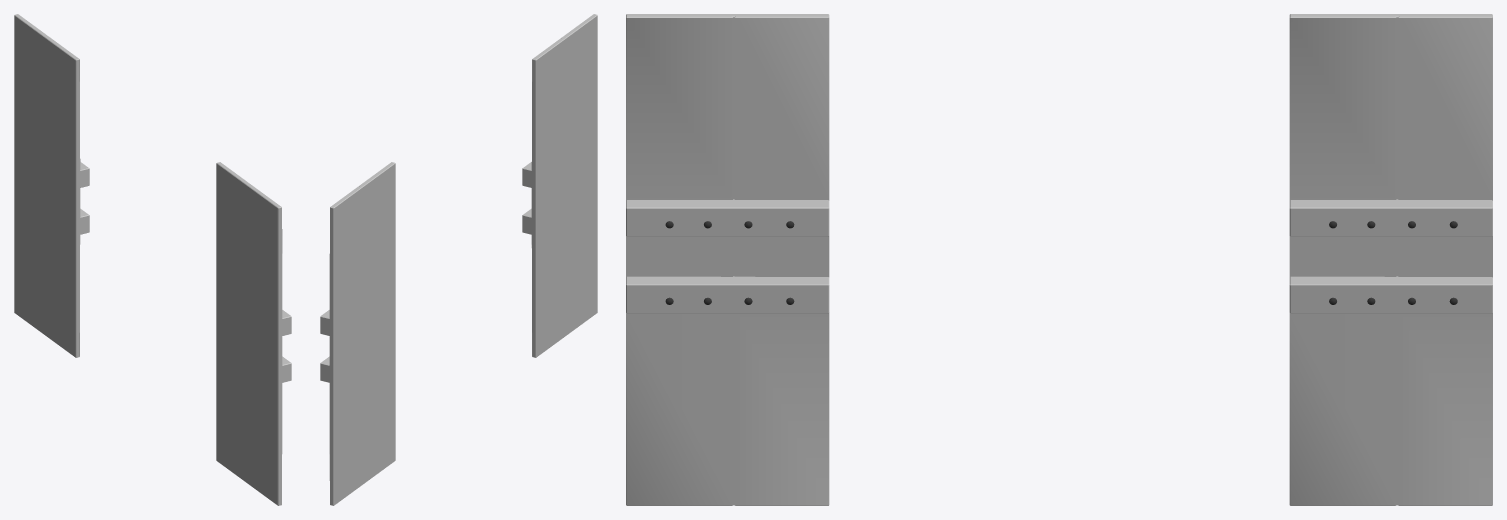
The model's file is SM_SJJ_HG_Wall05C.fbx.
3 views of the same model, side by side, from view 1: azimuth 30°, elevation 25°; view 2: azimuth 150°, elevation 25°; view 3: azimuth 270°, elevation 25° (orthographic). The views are drawn at different scales.
Visible parts, largest first — view 1: SM_SJJ_HG_Wall05C; view 2: SM_SJJ_HG_Wall05C; view 3: SM_SJJ_HG_Wall05C.
Boxes of the visible parts, bbox=[...] form: SM_SJJ_HG_Wall05C: bbox=[14, 14, 291, 505]; SM_SJJ_HG_Wall05C: bbox=[320, 14, 597, 505]; SM_SJJ_HG_Wall05C: bbox=[626, 14, 1492, 505].
Bounding box in the file's own units: 8.86 × 267 × 166.
